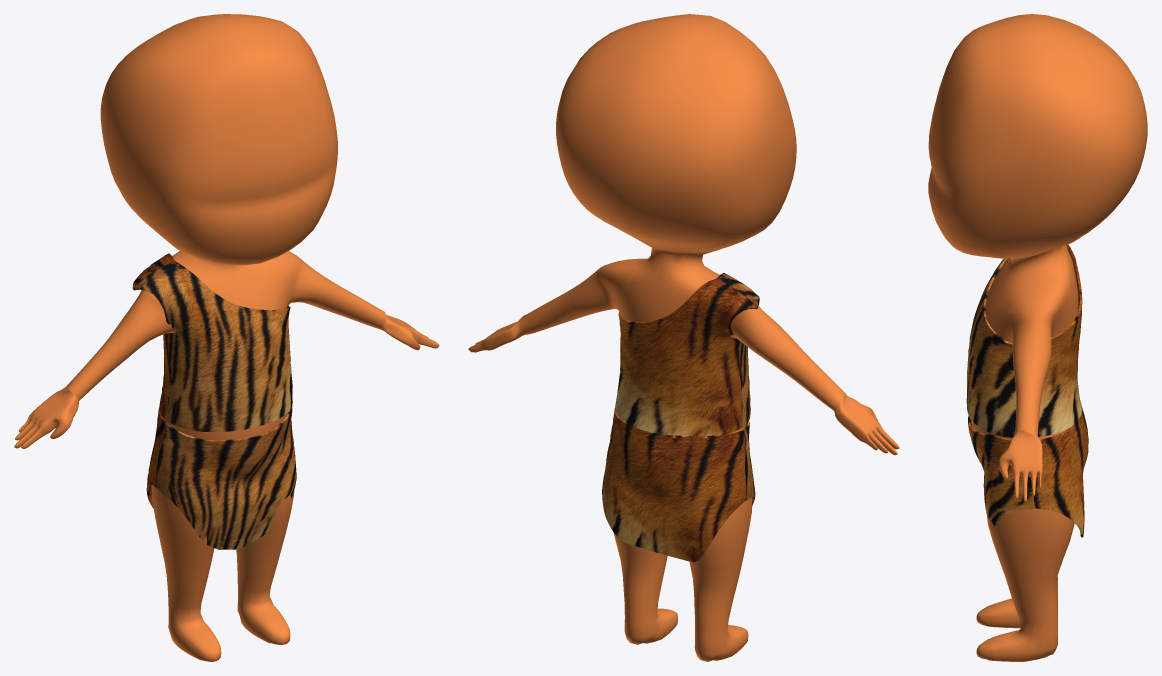
The model's file is Human_Basic.fbx.
The picture shows the model from 3 angles, left to right: view 1: azimuth 30°, elevation 25°; view 2: azimuth 150°, elevation 25°; view 3: azimuth 270°, elevation 25°; orthographic projection.
Parts seen in each view (by area): view 1: Cylinder003, Line002; view 2: Cylinder003, Line002; view 3: Cylinder003, Line002.
Boxes of the visible parts, x1,y1,x2,y2 form: Cylinder003: (14,14,439,661); Line002: (132,253,296,549); Cylinder003: (468,14,899,661); Line002: (602,273,759,562); Cylinder003: (928,14,1147,661); Line002: (966,244,1088,537).
Size of the model in its own units: 1419 by 1962 by 637.
Materials: 2 (1 with a texture image).
